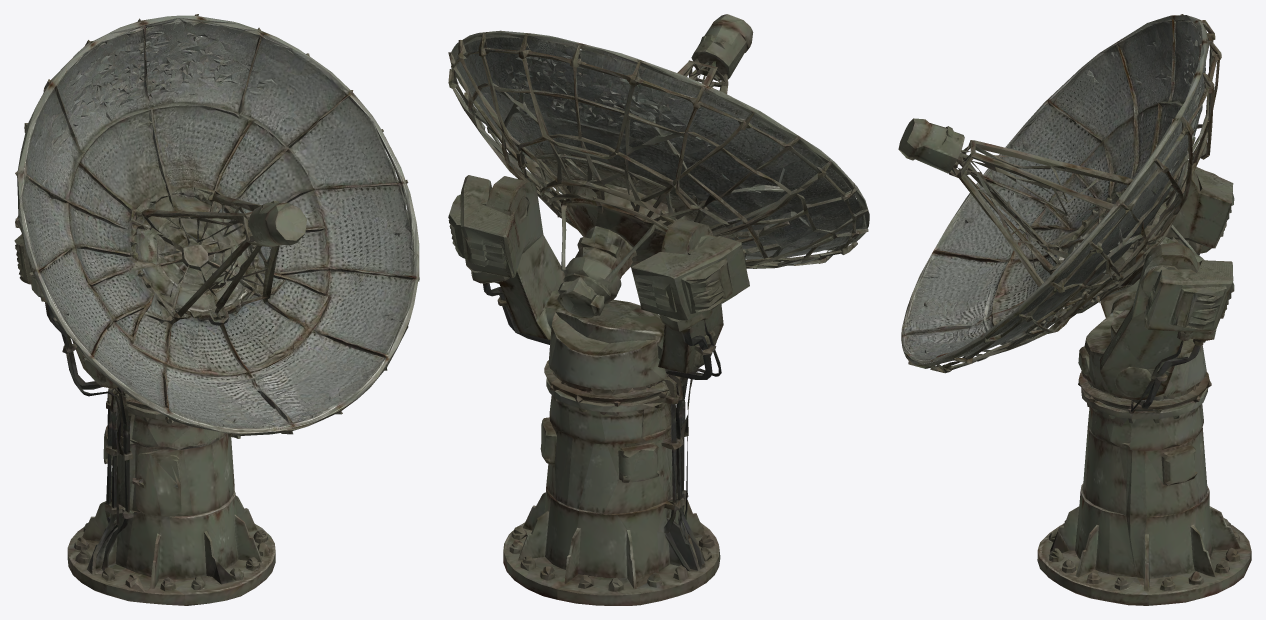
The model's file is radar_dish.glb.
The picture shows the model from 3 angles, left to right: view 1: azimuth 30°, elevation 25°; view 2: azimuth 150°, elevation 25°; view 3: azimuth 270°, elevation 25°; orthographic projection. The views are drawn at different scales.
Parts seen in each view (by area): view 1: radar_dish; view 2: radar_dish; view 3: radar_dish.
Part boxes in pixels (<box>): radar_dish: <box>14,14,419,605</box>; radar_dish: <box>448,14,869,605</box>; radar_dish: <box>898,14,1251,605</box>.
Size of the model in its own units: 6.07 by 8 by 4.9.
Materials: 1 (1 with a texture image).
